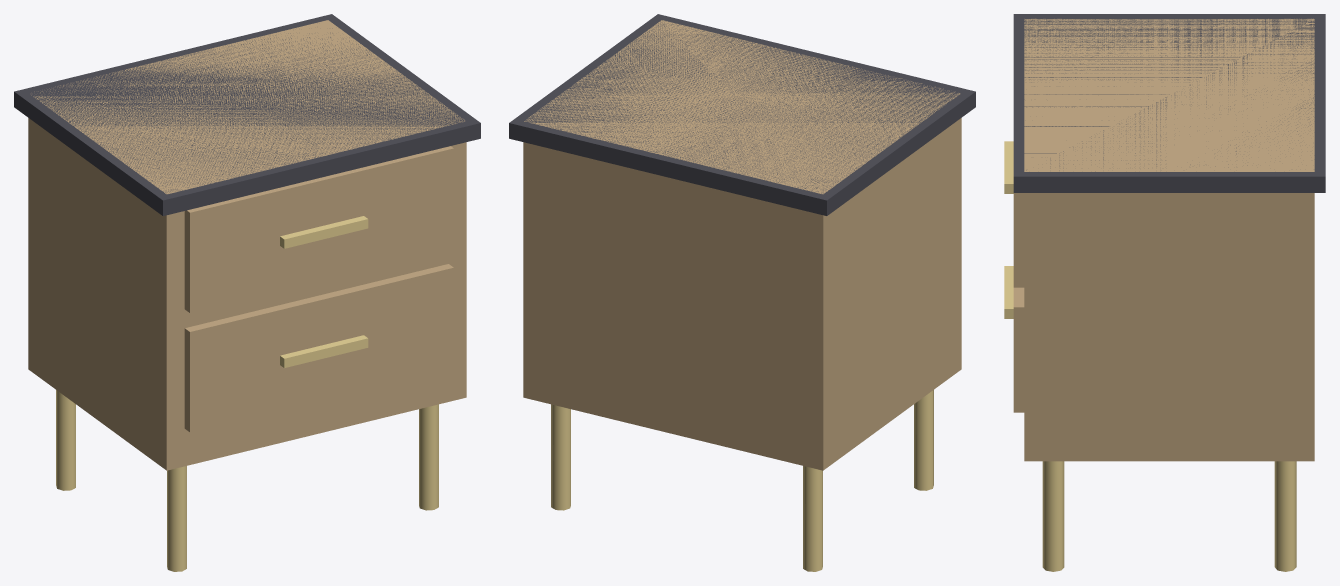
The model's file is bb_set_sidetable.fbx.
3 views of the same model, side by side, from view 1: azimuth 30°, elevation 25°; view 2: azimuth 150°, elevation 25°; view 3: azimuth 270°, elevation 25° (orthographic). The views are drawn at different scales.
Visible parts, largest first — view 1: bb_set_sidetable; view 2: bb_set_sidetable; view 3: bb_set_sidetable.
Boxes of the visible parts, x1=… form: bb_set_sidetable: x1=14, y1=14, x2=480, y2=571; bb_set_sidetable: x1=509, y1=14, x2=975, y2=571; bb_set_sidetable: x1=1004, y1=14, x2=1325, y2=571.
Size of the model in its own units: 0.53 by 0.62 by 0.4425.
